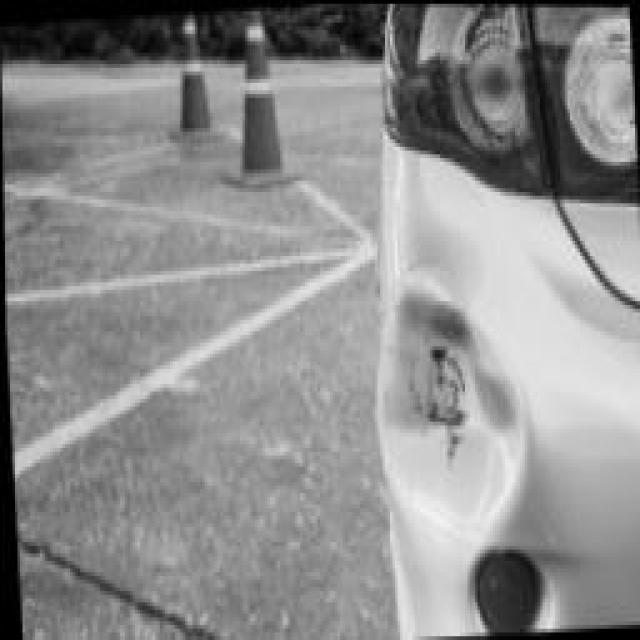Bumper: (360, 237, 545, 563)
